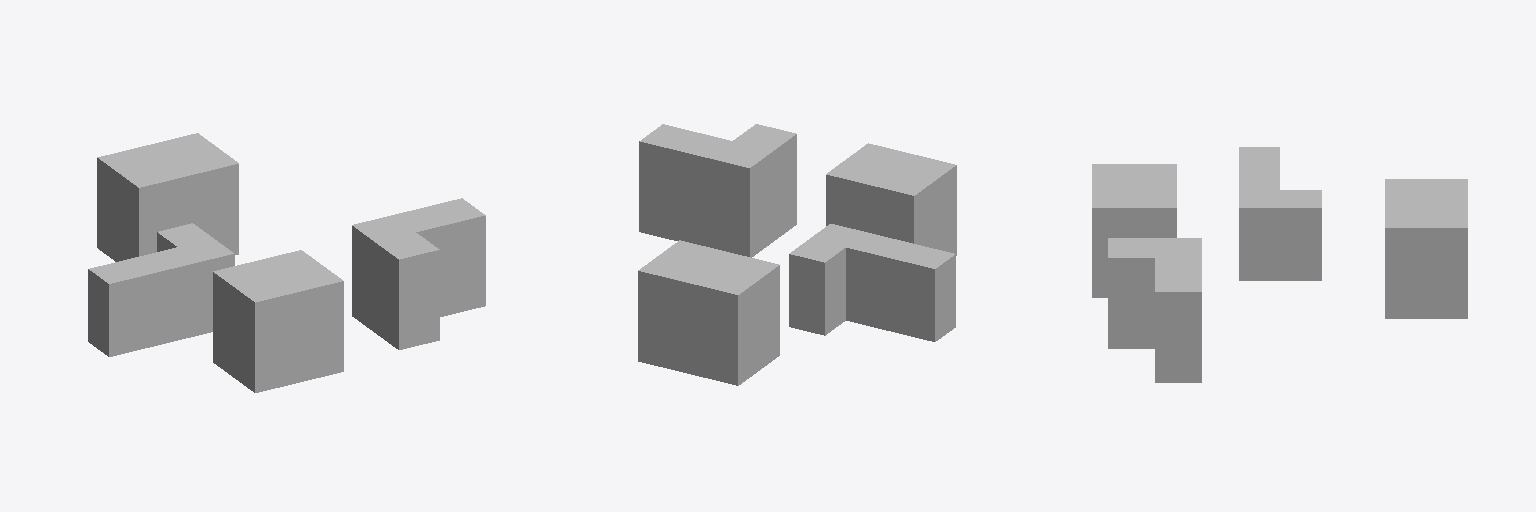
File: output_file_sig.obj
3 renders of one model, left to right at view 1: azimuth 30°, elevation 25°; view 2: azimuth 150°, elevation 25°; view 3: azimuth 270°, elevation 25°, orthographic.
Visible parts, largest first — view 1: geometry_3, geometry_1, geometry_2, geometry_0; view 2: geometry_3, geometry_2, geometry_0, geometry_1; view 3: geometry_3, geometry_2, geometry_0, geometry_1.
Part boxes in pixels (x1,y1,x2,y2): geometry_3: (352,198,485,349); geometry_1: (213,250,343,392); geometry_2: (97,133,238,261); geometry_0: (88,223,234,356); geometry_3: (639,124,796,257); geometry_2: (638,240,779,385); geometry_0: (789,224,955,341); geometry_1: (826,143,956,255); geometry_3: (1108,238,1201,382); geometry_2: (1385,179,1467,318); geometry_0: (1239,147,1321,280); geometry_1: (1092,164,1176,297).
Size of the model in its own units: 278 by 72 by 271.